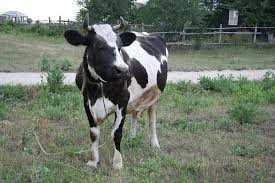waka: (62, 10, 172, 172)
